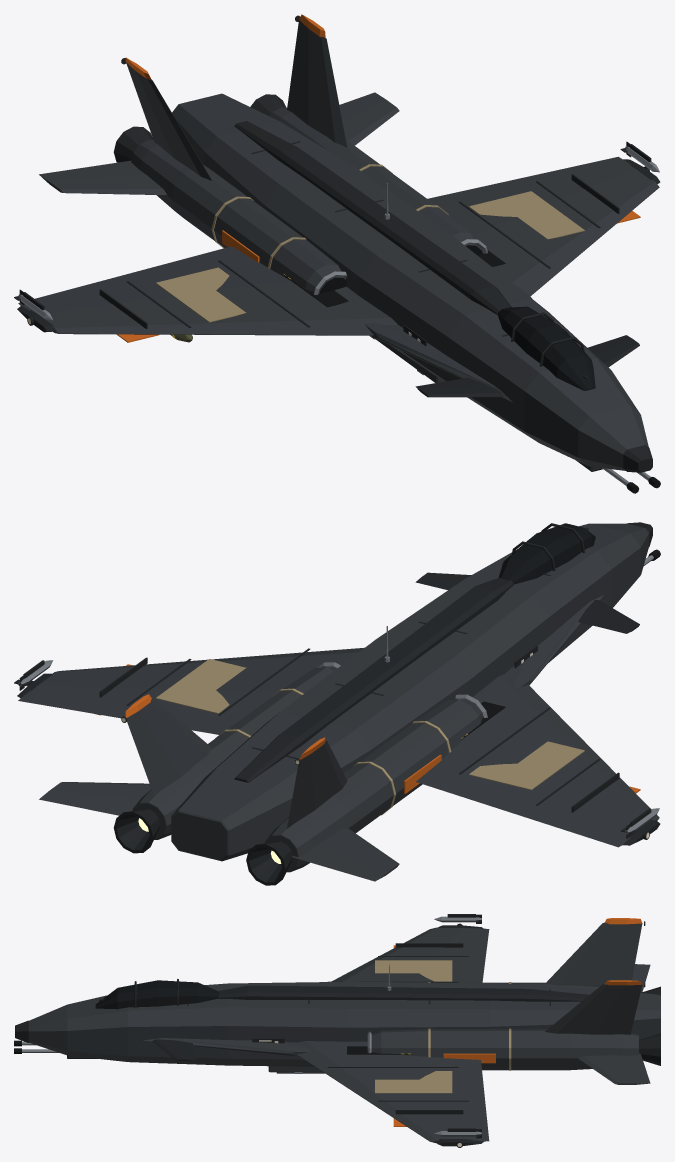
Rendered from strafe_jet.fbx.
The picture shows the model from 3 angles, top to bottom: view 1: azimuth 30°, elevation 25°; view 2: azimuth 150°, elevation 25°; view 3: azimuth 270°, elevation 25°; orthographic projection. The views are drawn at different scales.
Parts seen in each view (by area): view 1: Body, Canopy; view 2: Body, Canopy, Missiles; view 3: Body, Canopy, Missiles.
Part boxes in pixels (x1,y1,x2,y2): Body: (17,14,660,493); Canopy: (497,306,595,390); Body: (17,522,660,885); Canopy: (498,523,595,584); Missiles: (14,660,659,838); Body: (14,914,660,1147); Canopy: (95,980,219,1009); Missiles: (434,914,481,1138).
Bounding box in the file's own units: 2571 × 626 × 3215.
8 materials, 6 textured.
